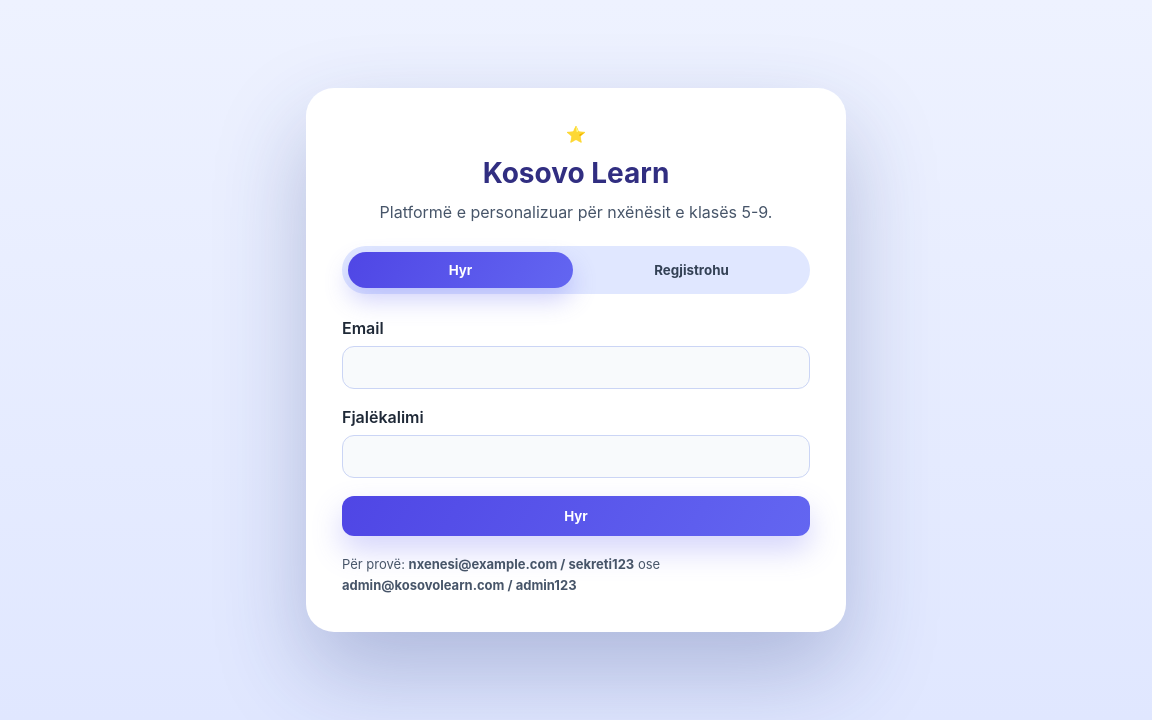
App › shfaq panelin bazë të nxënësit pas hyrjes
The image size is (1152, 720).
Type "nxenesi@example.com" into the field labelled "Email" at (576, 368), box [342, 346, 810, 389]
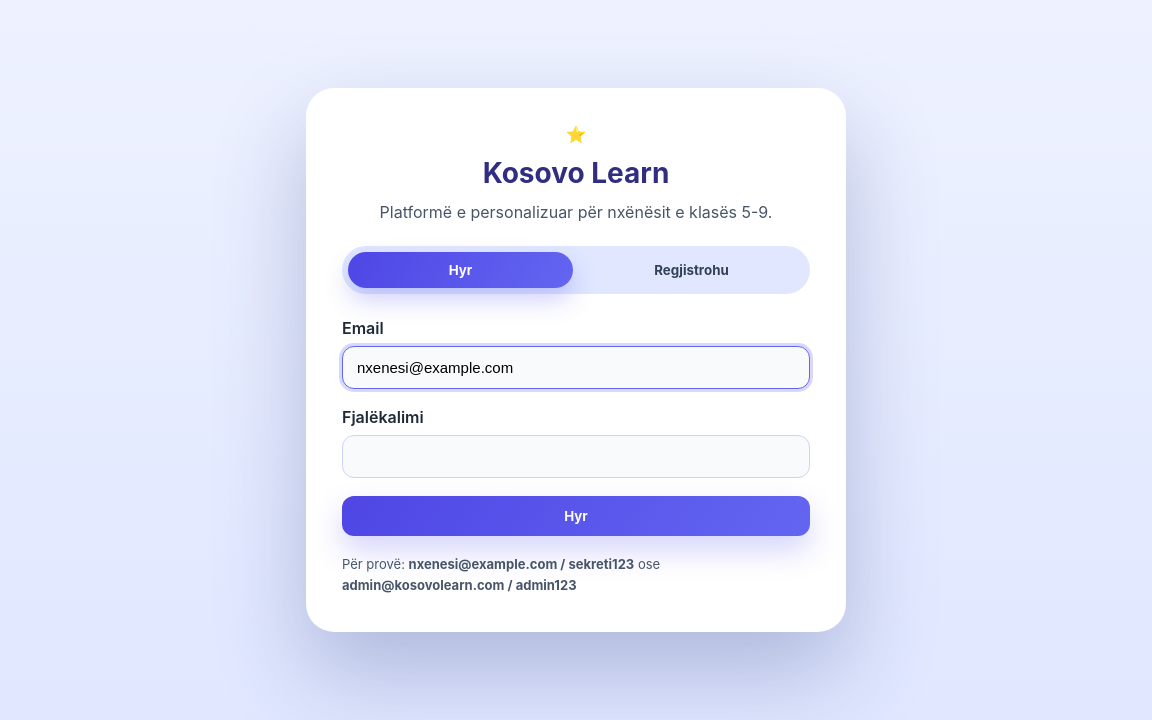
Type "sekreti123" into the password field labelled "Fjalëkalimi" at (576, 457), box [342, 435, 810, 478]
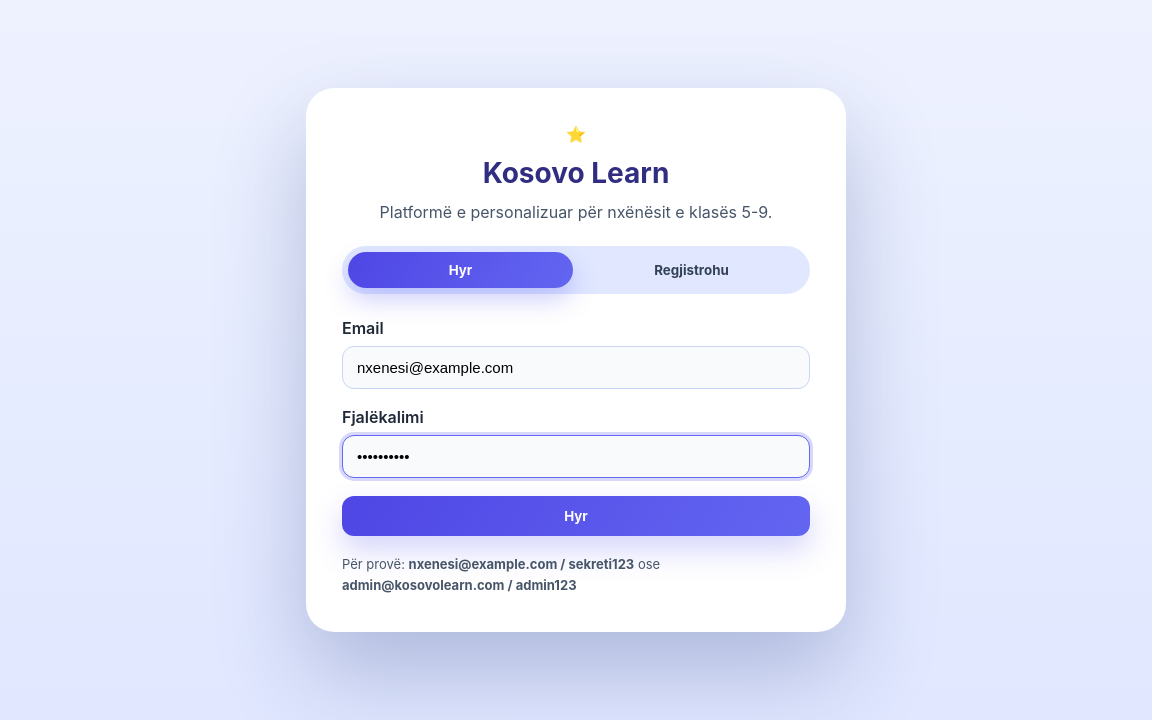
Click the button "Hyr" below "Fjalëkalimi" at (576, 516), box [342, 496, 810, 536]
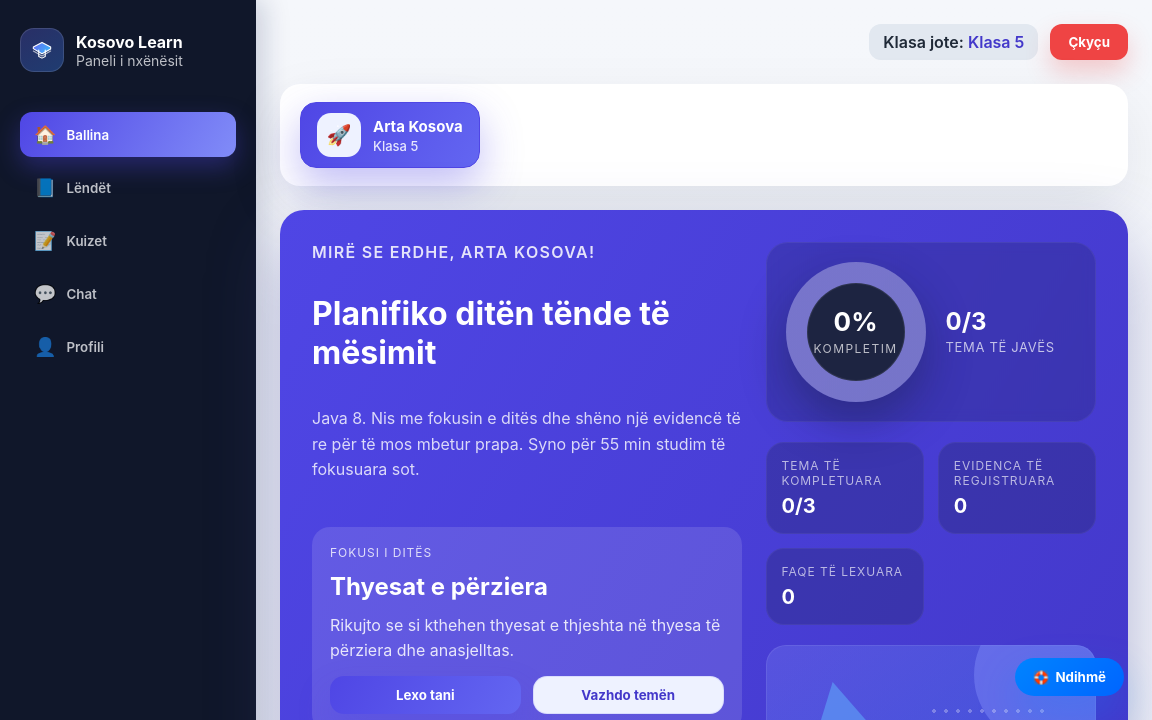
Expected: the text "Kosovo Learn" is shown, [76, 32, 183, 52]
Expected: the button "🏠 Ballina" is shown, [20, 112, 236, 157]
Expected: the button "🚀 Arta Kosova Klasa 5" is shown, [300, 102, 480, 168]
